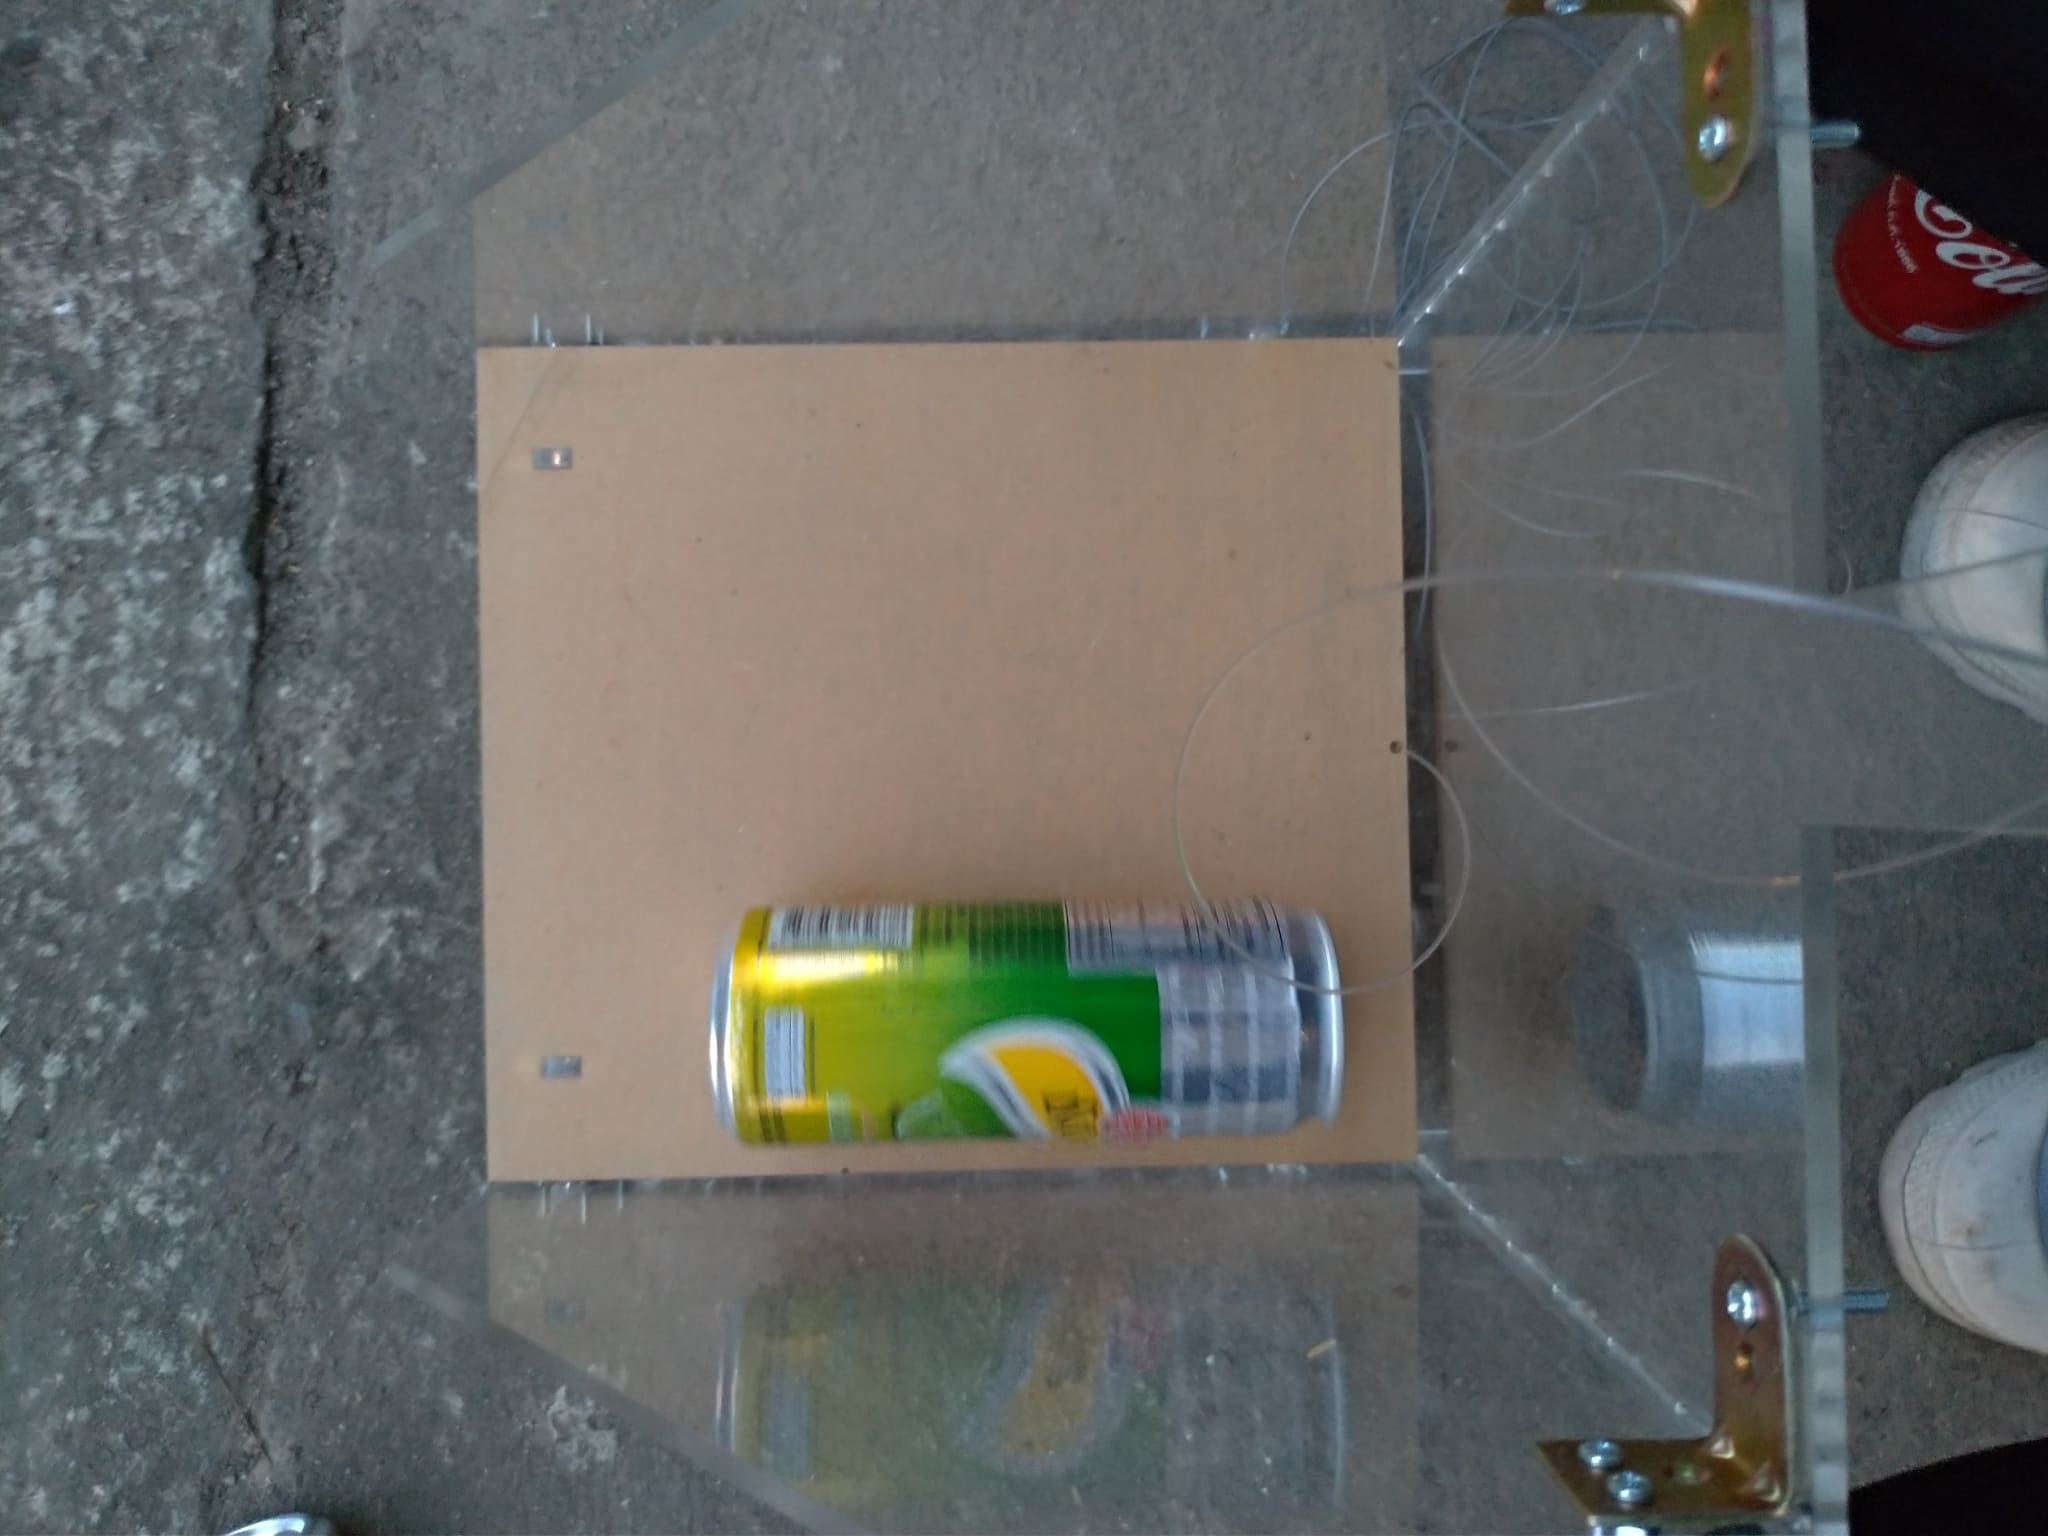AlCan: (710, 900, 1351, 1142), (1834, 161, 2048, 352)
